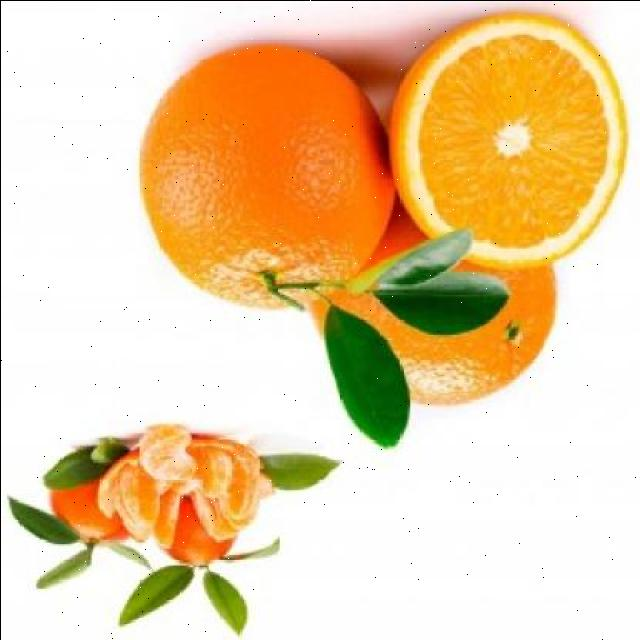Orange: (138, 43, 396, 312), (307, 208, 558, 410)
